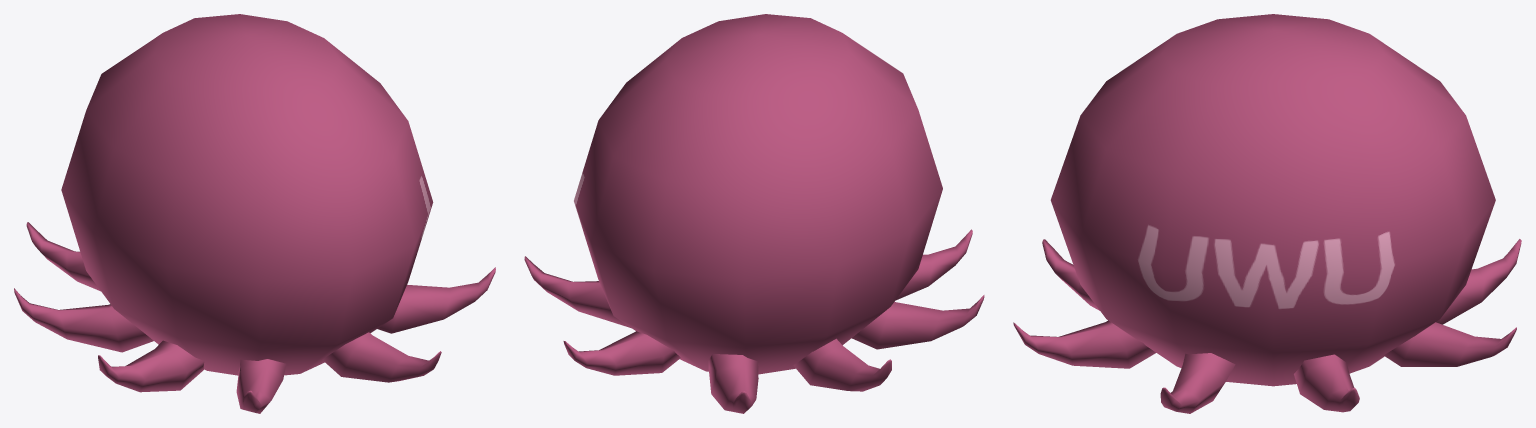
Rendered from Octopus Blob UWU PINK.fbx.
3 renders of one model, left to right at view 1: azimuth 30°, elevation 25°; view 2: azimuth 150°, elevation 25°; view 3: azimuth 270°, elevation 25°, orthographic. The views are drawn at different scales.
Parts seen in each view (by area): view 1: Cylinder006; view 2: Cylinder006; view 3: Cylinder006.
Boxes of the visible parts, x1,y1,x2,y2 form: Cylinder006: [14, 14, 495, 413]; Cylinder006: [524, 14, 984, 413]; Cylinder006: [1013, 14, 1521, 413].
Bounding box in the file's own units: 17.84 × 13.75 × 19.36.
Materials: 1 (1 with a texture image).
